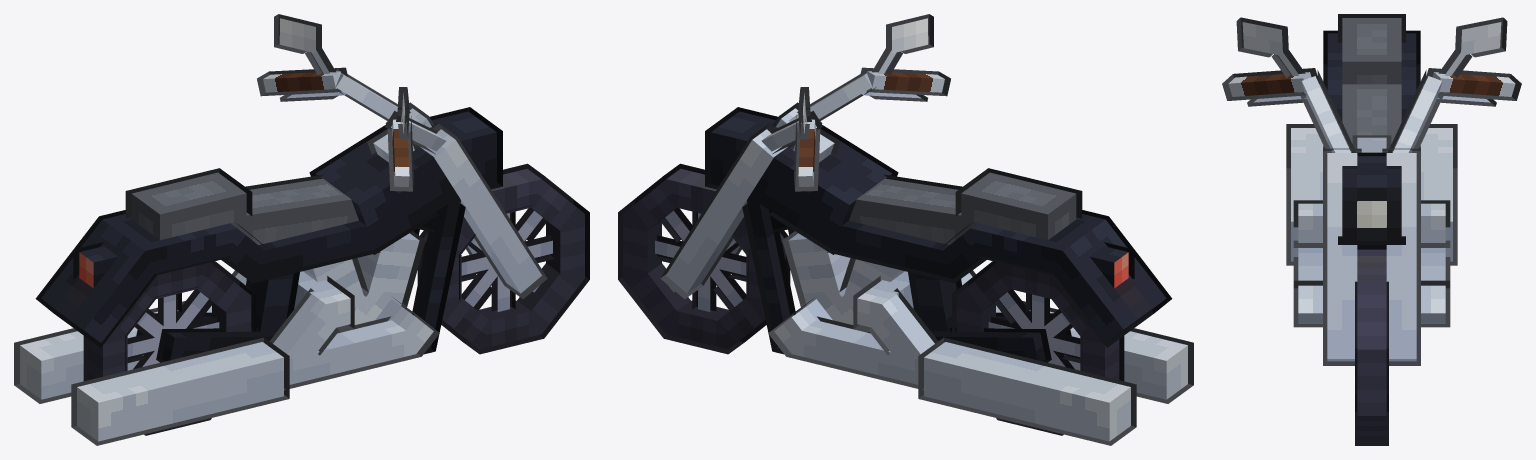
Rendered from Motorcycle.gltf.
3 renders of one model, left to right at view 1: azimuth 30°, elevation 25°; view 2: azimuth 150°, elevation 25°; view 3: azimuth 270°, elevation 25°, orthographic. The views are drawn at different scales.
Visible parts, largest first — view 1: cube (×28), cylinder (×2), cube_outline (×14), cylinder_outline (×2); view 2: cube (×28), cylinder (×2), cube_outline (×15), cylinder_outline (×2); view 3: cube (×19), cube_outline (×19), cylinder, cylinder_outline.
Boxes of the visible parts, bbox=[...] form: cube (×28): bbox=[20, 18, 552, 441]; cylinder (×2): bbox=[88, 168, 584, 379]; cube_outline (×14): bbox=[14, 14, 547, 445]; cylinder_outline (×2): bbox=[83, 163, 589, 435]; cube (×28): bbox=[655, 18, 1187, 441]; cylinder (×2): bbox=[623, 168, 1119, 379]; cube_outline (×15): bbox=[653, 14, 1193, 445]; cylinder_outline (×2): bbox=[618, 163, 1124, 435]; cube (×19): bbox=[1228, 18, 1515, 361]; cube_outline (×19): bbox=[1222, 14, 1521, 365]; cylinder: bbox=[1357, 249, 1386, 441]; cylinder_outline: bbox=[1355, 245, 1388, 445].
Bounding box in the file's own units: 2.66 × 1.54 × 1.27.
Materials: 2 (2 with a texture image).
